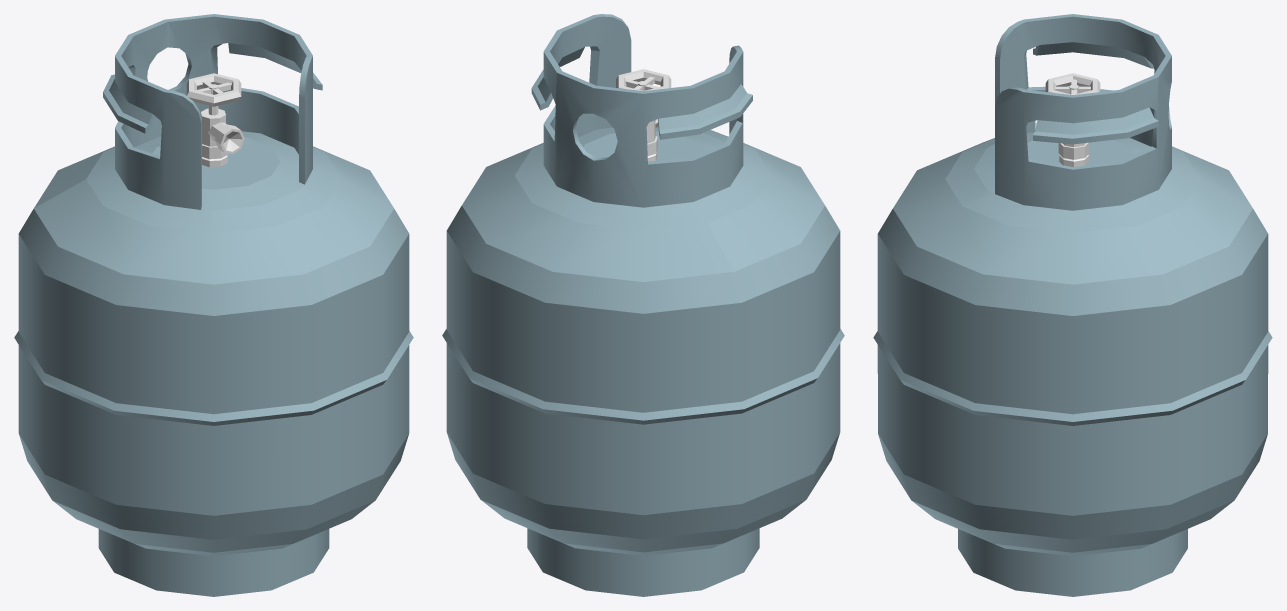
File: Propane_tank.fbx
3 views of the same model, side by side, from view 1: azimuth 30°, elevation 25°; view 2: azimuth 150°, elevation 25°; view 3: azimuth 270°, elevation 25° (orthographic).
Parts seen in each view (by area): view 1: Propane_tank; view 2: Propane_tank; view 3: Propane_tank.
Part boxes in pixels (left/top/right/bottom): Propane_tank: left=14, top=14, right=413, bottom=596; Propane_tank: left=442, top=14, right=844, bottom=596; Propane_tank: left=873, top=14, right=1272, bottom=596.
Bounding box in the file's own units: 0.4956 × 0.6739 × 0.4953.
